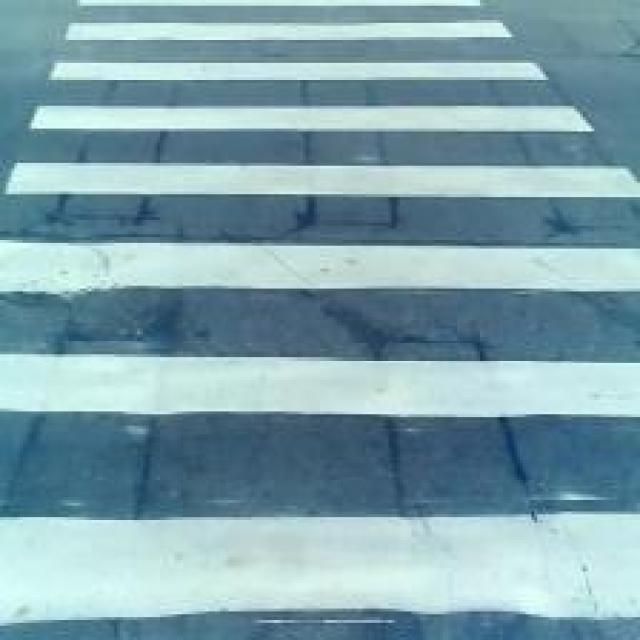zebra: (73, 14, 590, 640)
